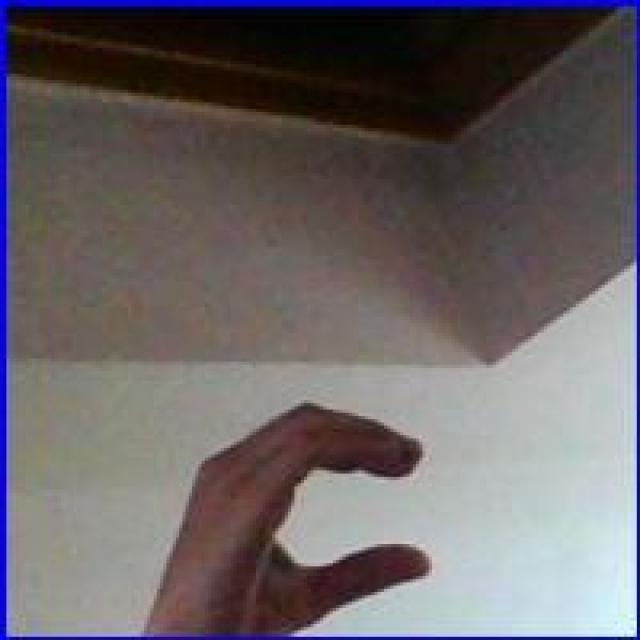C: (176, 397, 438, 630)
